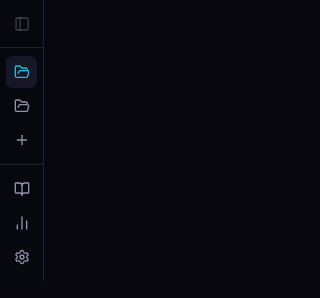
Test: ArcSidebar › cycle from pinned-open → pinned-collapsed collapses and keeps lit label
The image size is (320, 298).
Click the button named "Pin left sidebar open" at (22, 24), box [8, 10, 36, 38]
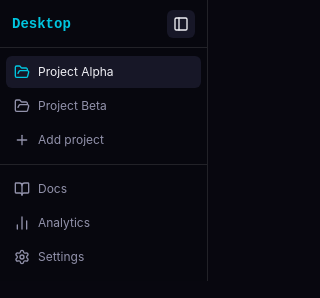
Click the button named "Collapse left sidebar" at (181, 24), box [167, 10, 195, 38]
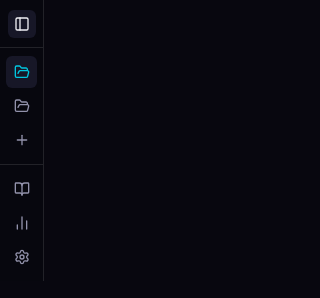
Now the text "Desktop" is gone
Now the button named "Unpin left sidebar" is shown, box [8, 10, 36, 38]
